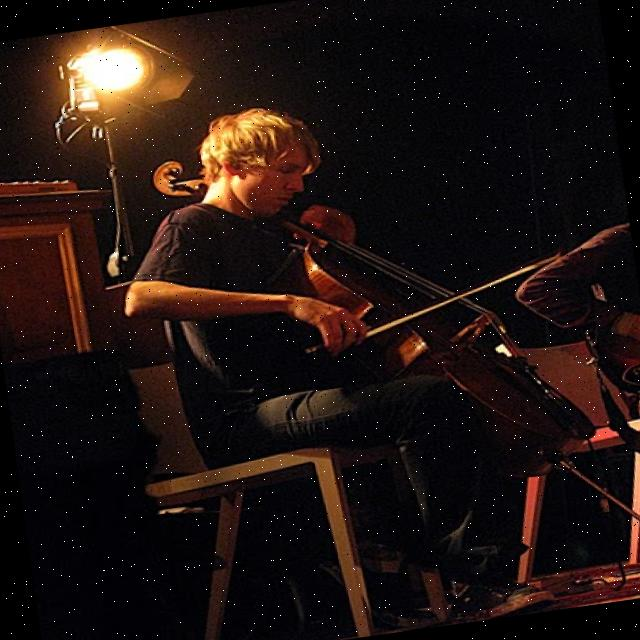cello: (141, 105, 607, 530)
